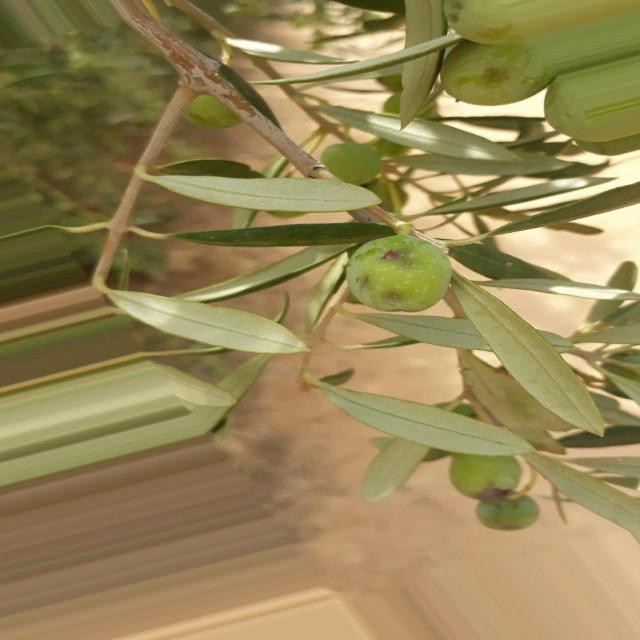Olive Fruit Fly: (346, 235, 452, 312)
